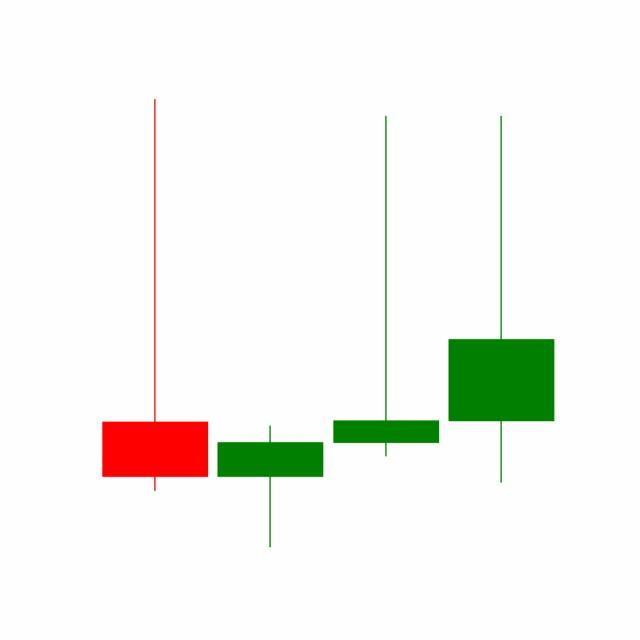Gravestone Doji: (329, 112, 445, 461)
